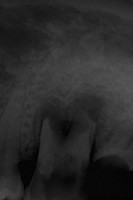Dental Caries: (32, 94, 108, 143)
